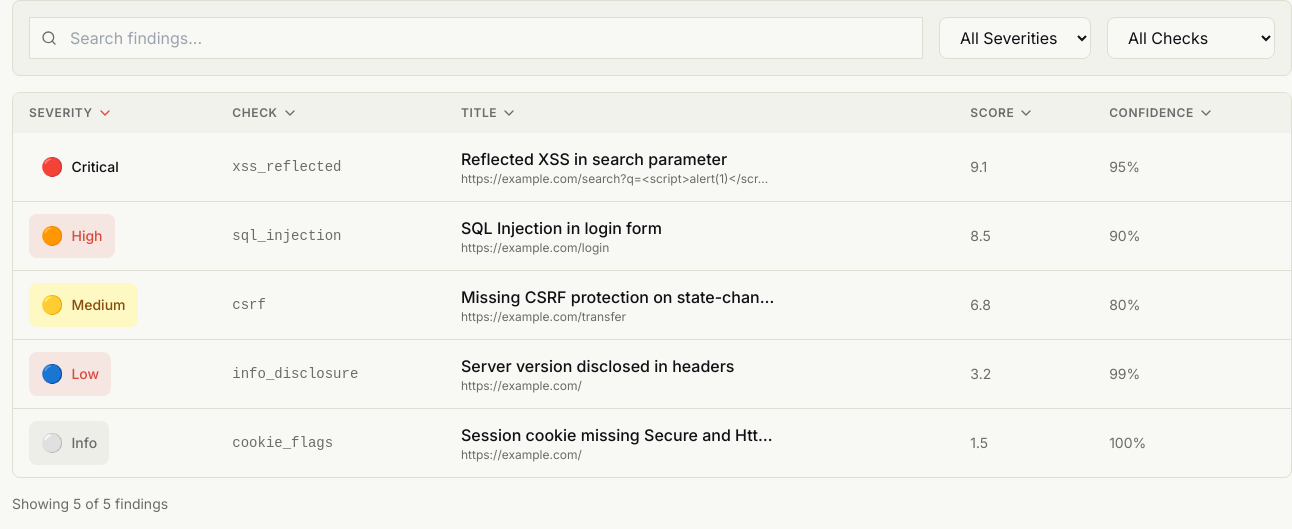
Test: FindingsTable › clears all filters when clear button clicked
Type "XSS" into the field with placeholder "Search findings..." at (476, 38), box x1=29 y1=17 x2=923 y2=59
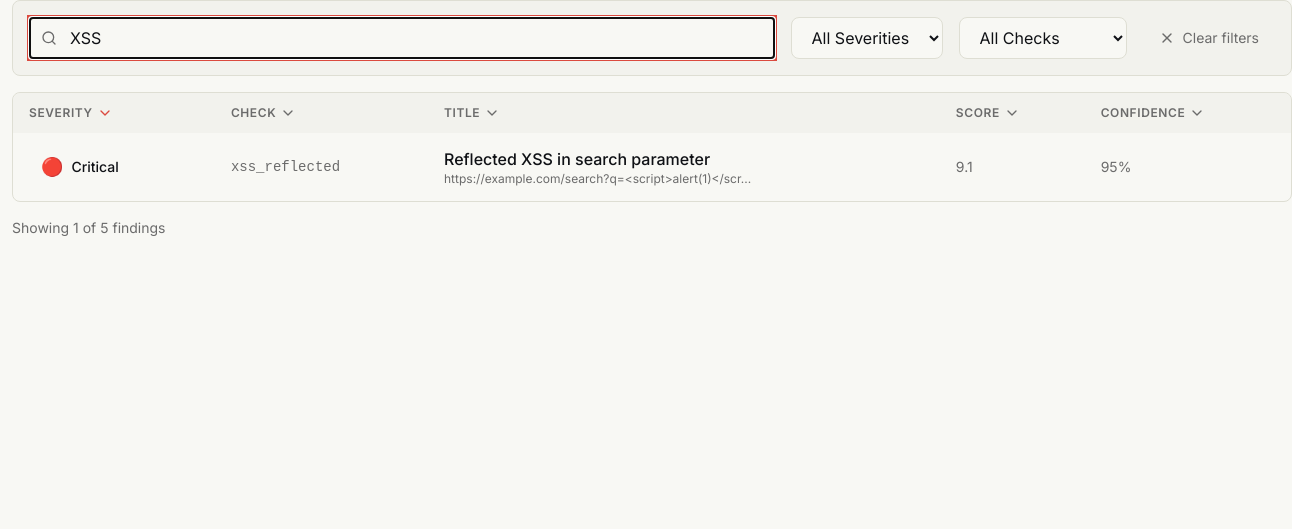
Click the button "Clear filters" at (1209, 38), box x1=1143 y1=17 x2=1275 y2=59
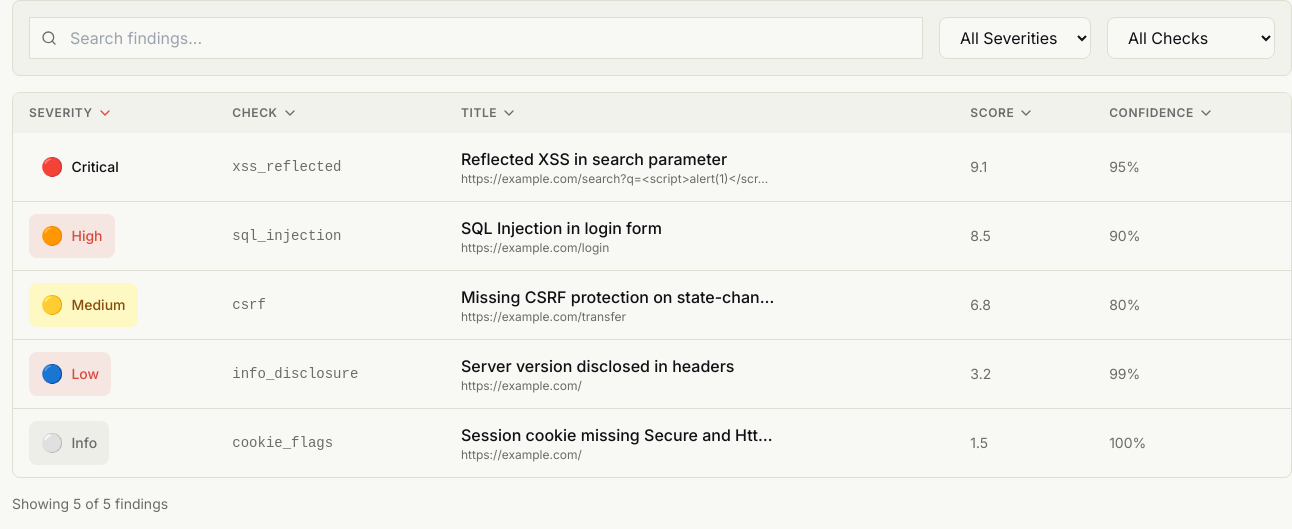
Expected: the field with placeholder "Search findings..." is empty, x1=29 y1=17 x2=923 y2=59
